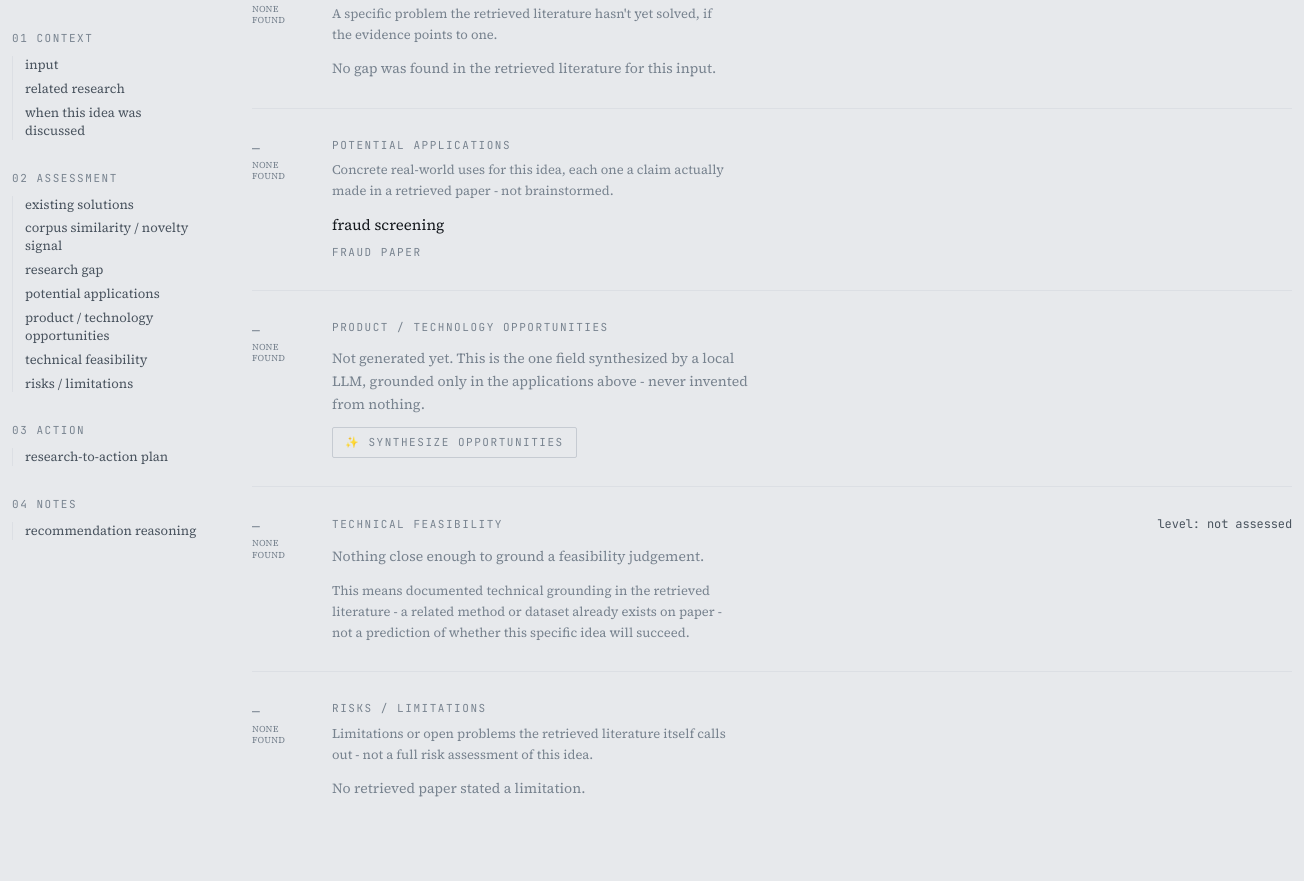
Scenario: AssessmentReport › synthesizes opportunities on click and renders all three tiers with source links
This screenshot has width=1304, height=881.
(page scrolled)
Click the button "✨ synthesize opportunities" at (454, 443), box [332,427,577,458]
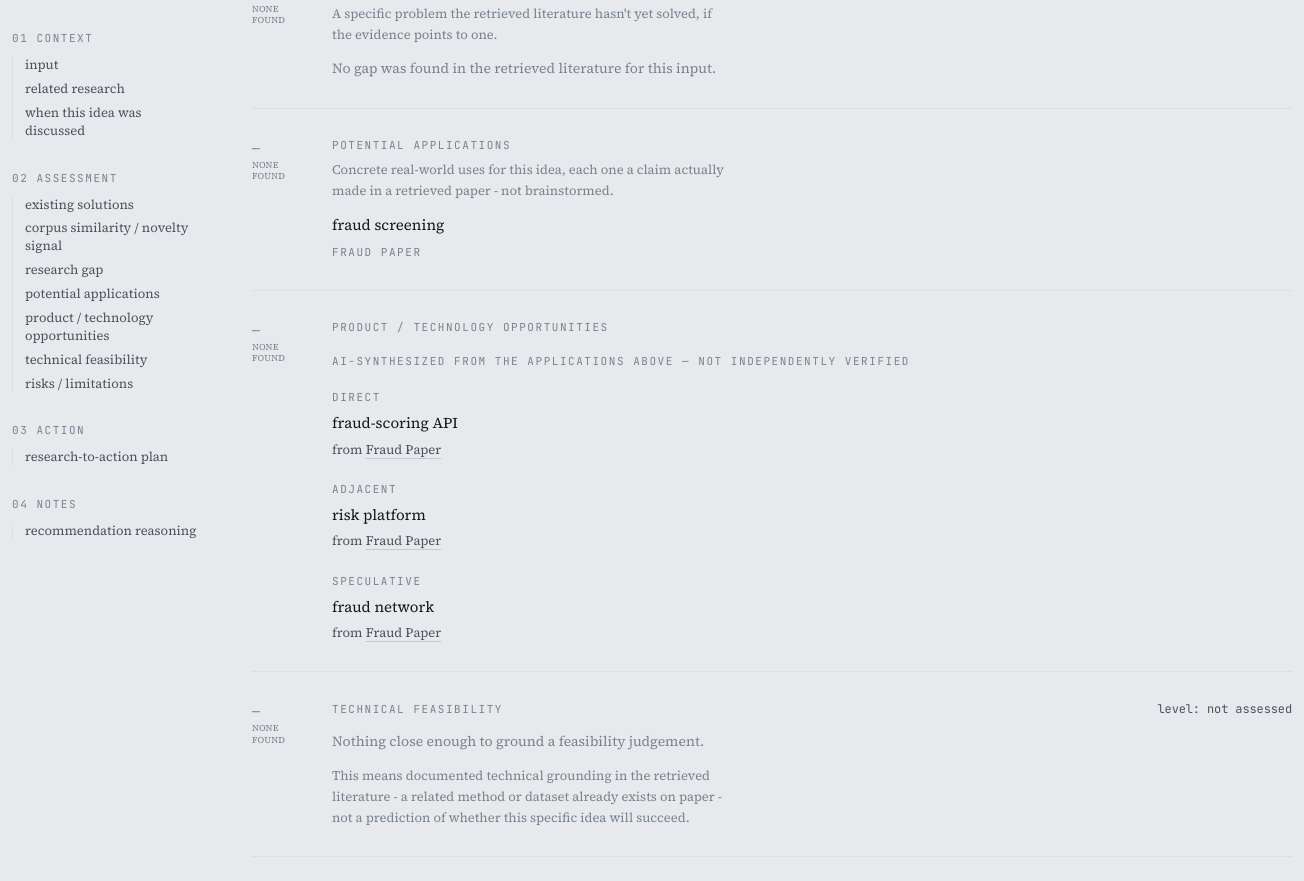
Expected: the text "fraud-scoring API" is shown, [332,412,458,433]
Expected: the text "risk platform" is shown, [332,504,426,525]
Expected: the text "fraud network" is shown, [332,596,434,617]
